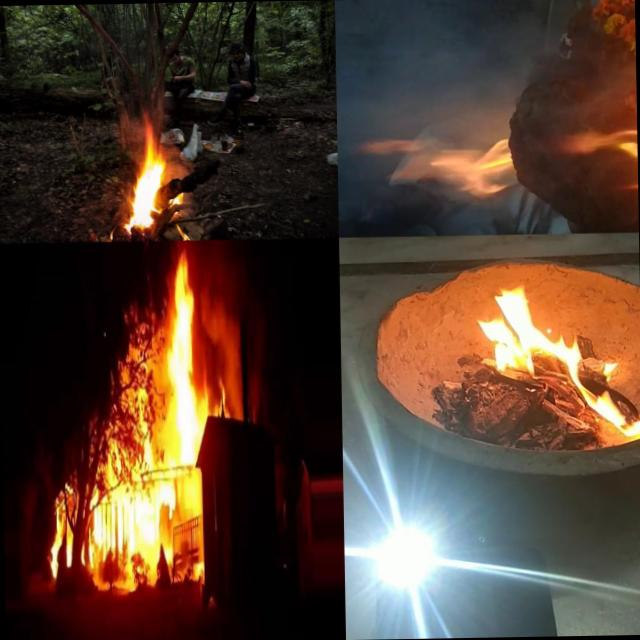fire: (468, 281, 640, 437), (379, 140, 472, 236), (162, 254, 202, 459), (381, 0, 453, 91), (114, 108, 165, 236), (42, 503, 66, 585), (200, 368, 231, 420)
smoke: (446, 0, 576, 217)
